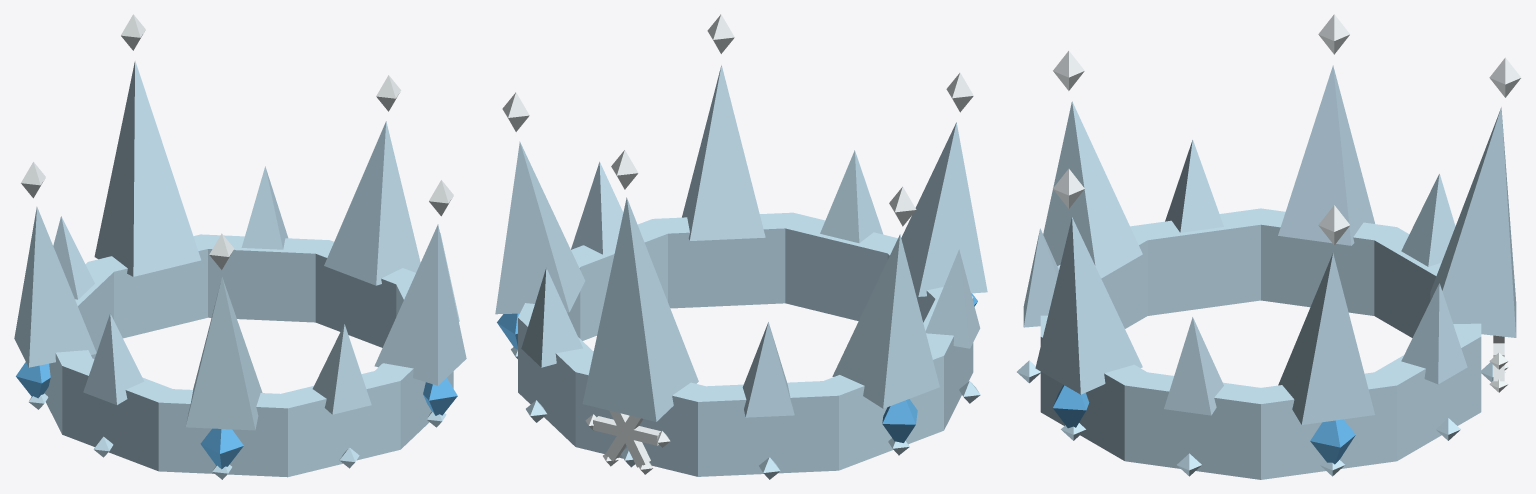
File: ice_crown_wonderland.glb
The picture shows the model from 3 angles, left to right: view 1: azimuth 30°, elevation 25°; view 2: azimuth 150°, elevation 25°; view 3: azimuth 270°, elevation 25°; orthographic projection. The views are drawn at different scales.
Visible parts, largest first — view 1: Crown_of_the_Snow_Queen; view 2: Crown_of_the_Snow_Queen; view 3: Crown_of_the_Snow_Queen.
Boxes of the visible parts, x1=… form: Crown_of_the_Snow_Queen: x1=14, y1=14, x2=466, y2=479; Crown_of_the_Snow_Queen: x1=495, y1=14, x2=987, y2=479; Crown_of_the_Snow_Queen: x1=1017, y1=14, x2=1521, y2=479.
Bounding box in the file's own units: 1.56 × 1.12 × 1.57.
